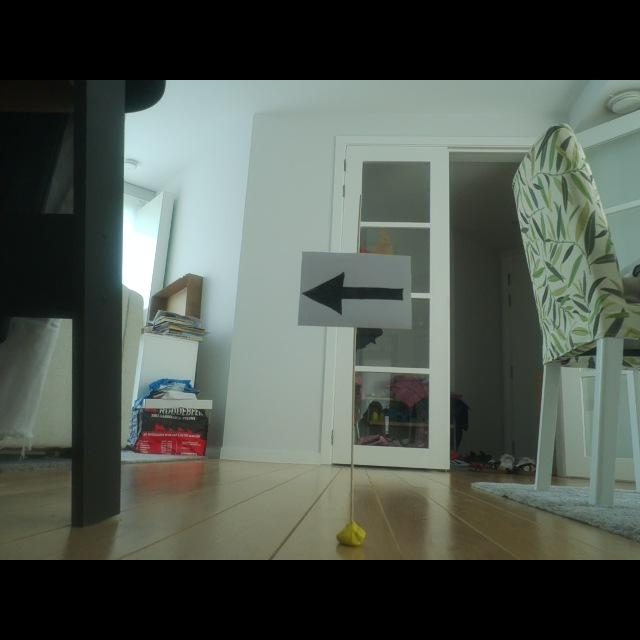balra_nyil: (303, 272, 402, 314)
